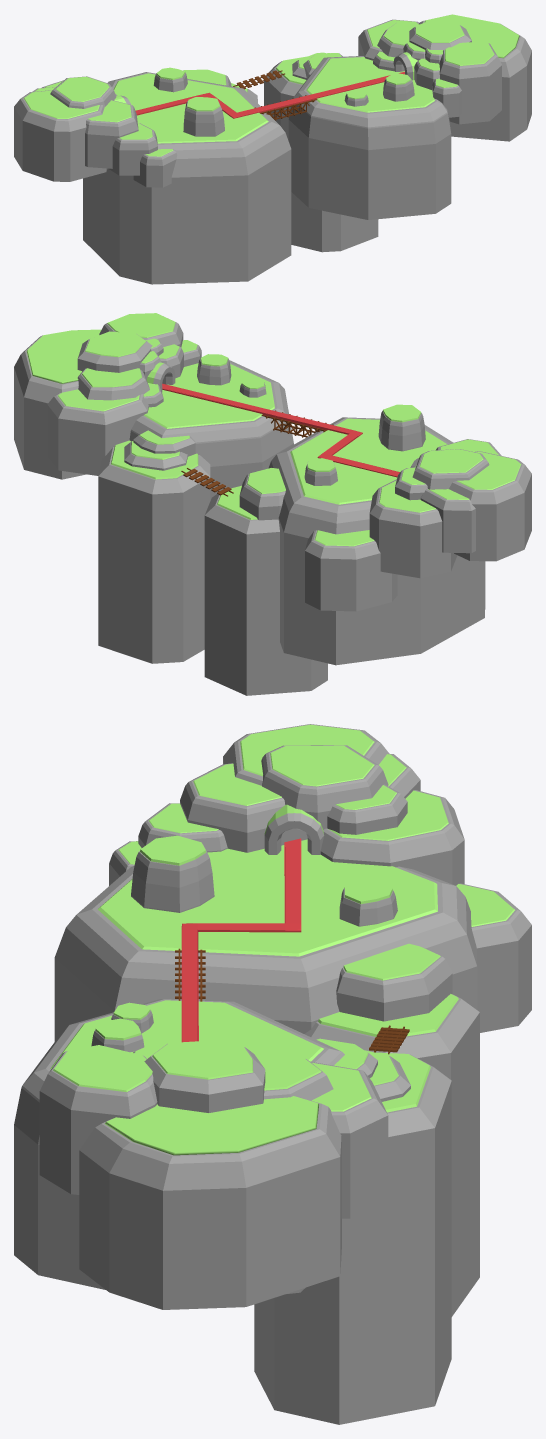
The model's file is MAP4.fbx.
3 views of the same model, one above another, from view 1: azimuth 30°, elevation 25°; view 2: azimuth 150°, elevation 25°; view 3: azimuth 270°, elevation 25° (orthographic). The views are drawn at different scales.
Parts seen in each view (by area): view 1: MAP4, Ground, Path_RED, Bridge, Cliff3, Bridge2; view 2: MAP4, Ground, Path_RED, Bridge, Cliff3, Bridge2; view 3: MAP4, Ground, Path_RED, Cliff3, Cliff4.
Boxes of the visible parts, <box> form: MAP4: <box>14,14,531,284</box>; Ground: <box>113,57,434,143</box>; Path_RED: <box>135,71,404,118</box>; Bridge: <box>255,95,317,120</box>; Cliff3: <box>187,97,220,111</box>; Bridge2: <box>233,70,284,89</box>; MAP4: <box>14,313,531,695</box>; Ground: <box>144,363,447,504</box>; Path_RED: <box>162,383,399,477</box>; Bridge: <box>261,410,333,437</box>; Cliff3: <box>383,404,421,422</box>; Bridge2: <box>181,468,233,496</box>; MAP4: <box>14,724,531,1424</box>; Ground: <box>50,845,437,1068</box>; Path_RED: <box>181,838,301,1042</box>; Cliff3: <box>140,835,206,865</box>; Cliff4: <box>344,880,392,904</box>.
Bounding box in the file's own units: 17172 × 7325 × 8790.
